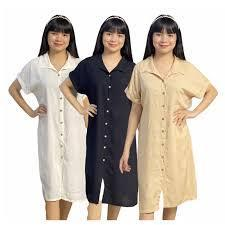dress: (128, 53, 209, 210), (13, 53, 84, 204), (71, 53, 136, 206)
